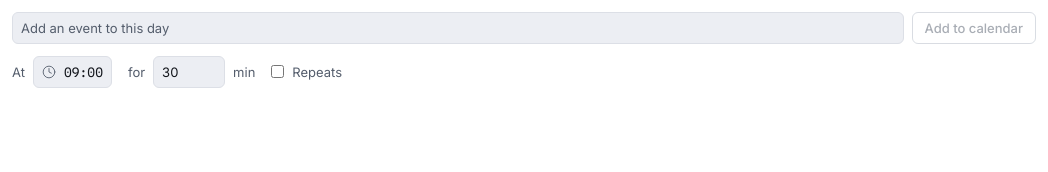
Test case: what the daemon refuses › quotes the daemon's own sentence when it sent one
This screenshot has width=1048, height=172.
Type "Coffee" into the field named "Title" at (458, 28), box [12,12,904,44]
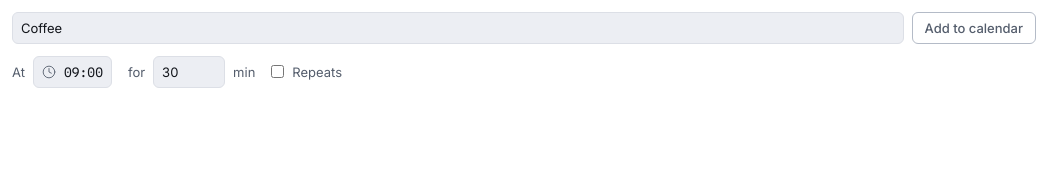
Click the button "Add to calendar" at (974, 28), box [912,12,1036,44]
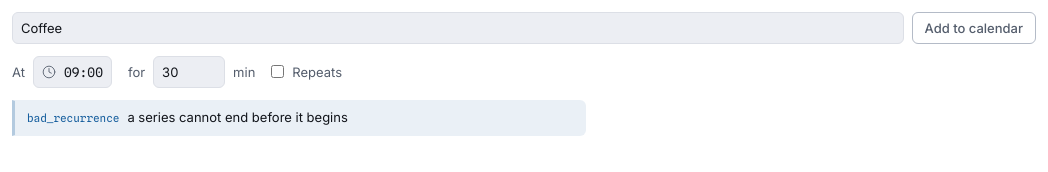
Result: the text "a series cannot end before it begins" is shown at [127,109,348,126]
